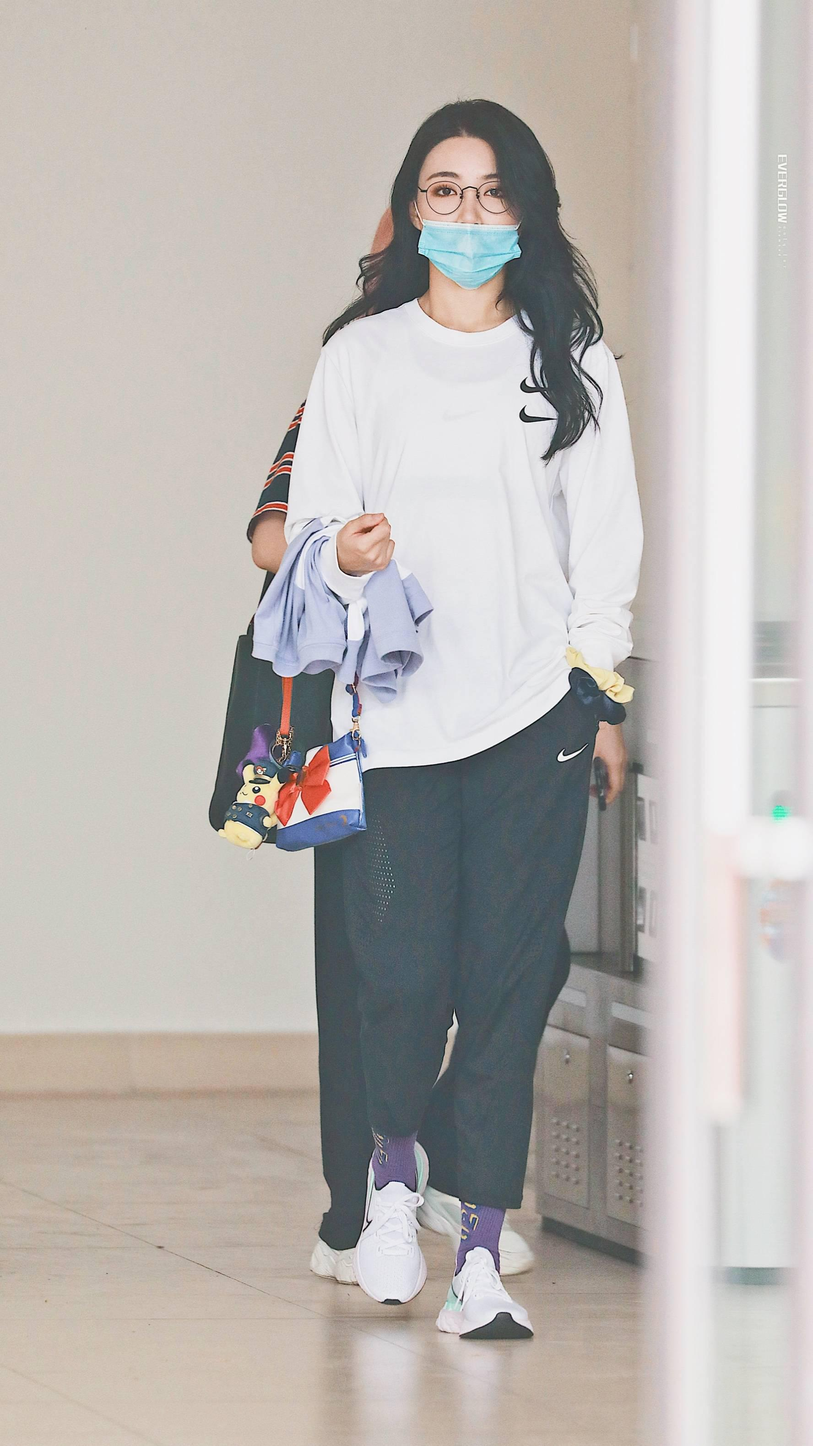WRONG: (415, 155, 519, 289)
